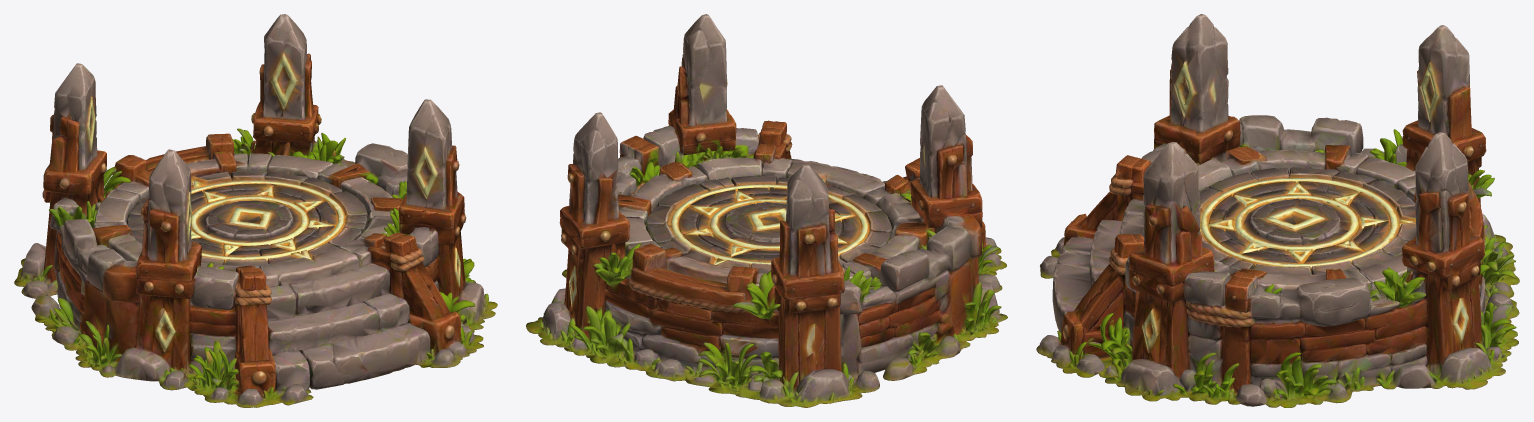
The model's file is Runestone_Altar.glb.
3 renders of one model, left to right at view 1: azimuth 30°, elevation 25°; view 2: azimuth 150°, elevation 25°; view 3: azimuth 270°, elevation 25°, orthographic. The views are drawn at different scales.
Visible parts, largest first — view 1: Runestone_Altar; view 2: Runestone_Altar; view 3: Runestone_Altar.
Boxes of the visible parts, x1=… form: Runestone_Altar: x1=14, y1=14, x2=497, y2=407; Runestone_Altar: x1=526, y1=14, x2=1007, y2=407; Runestone_Altar: x1=1036, y1=14, x2=1519, y2=407.
Bounding box in the file's own units: 1.89 × 0.9782 × 1.88.
Materials: 1 (1 with a texture image).
